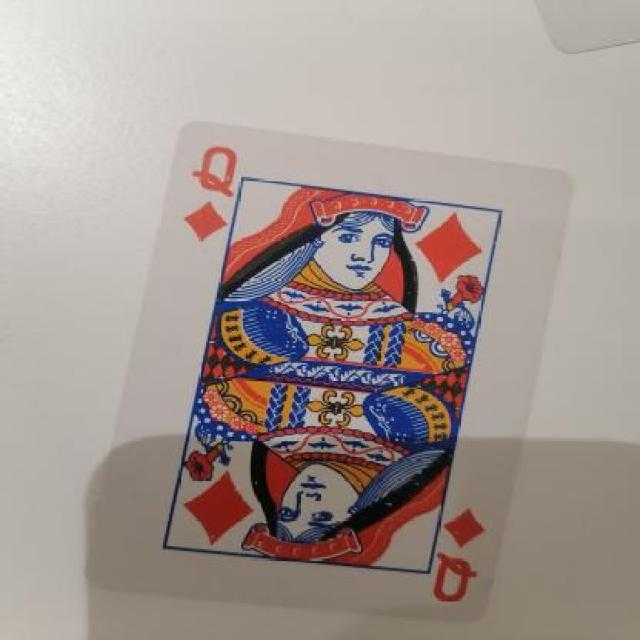QD: (422, 484, 506, 610), (180, 139, 252, 258)
